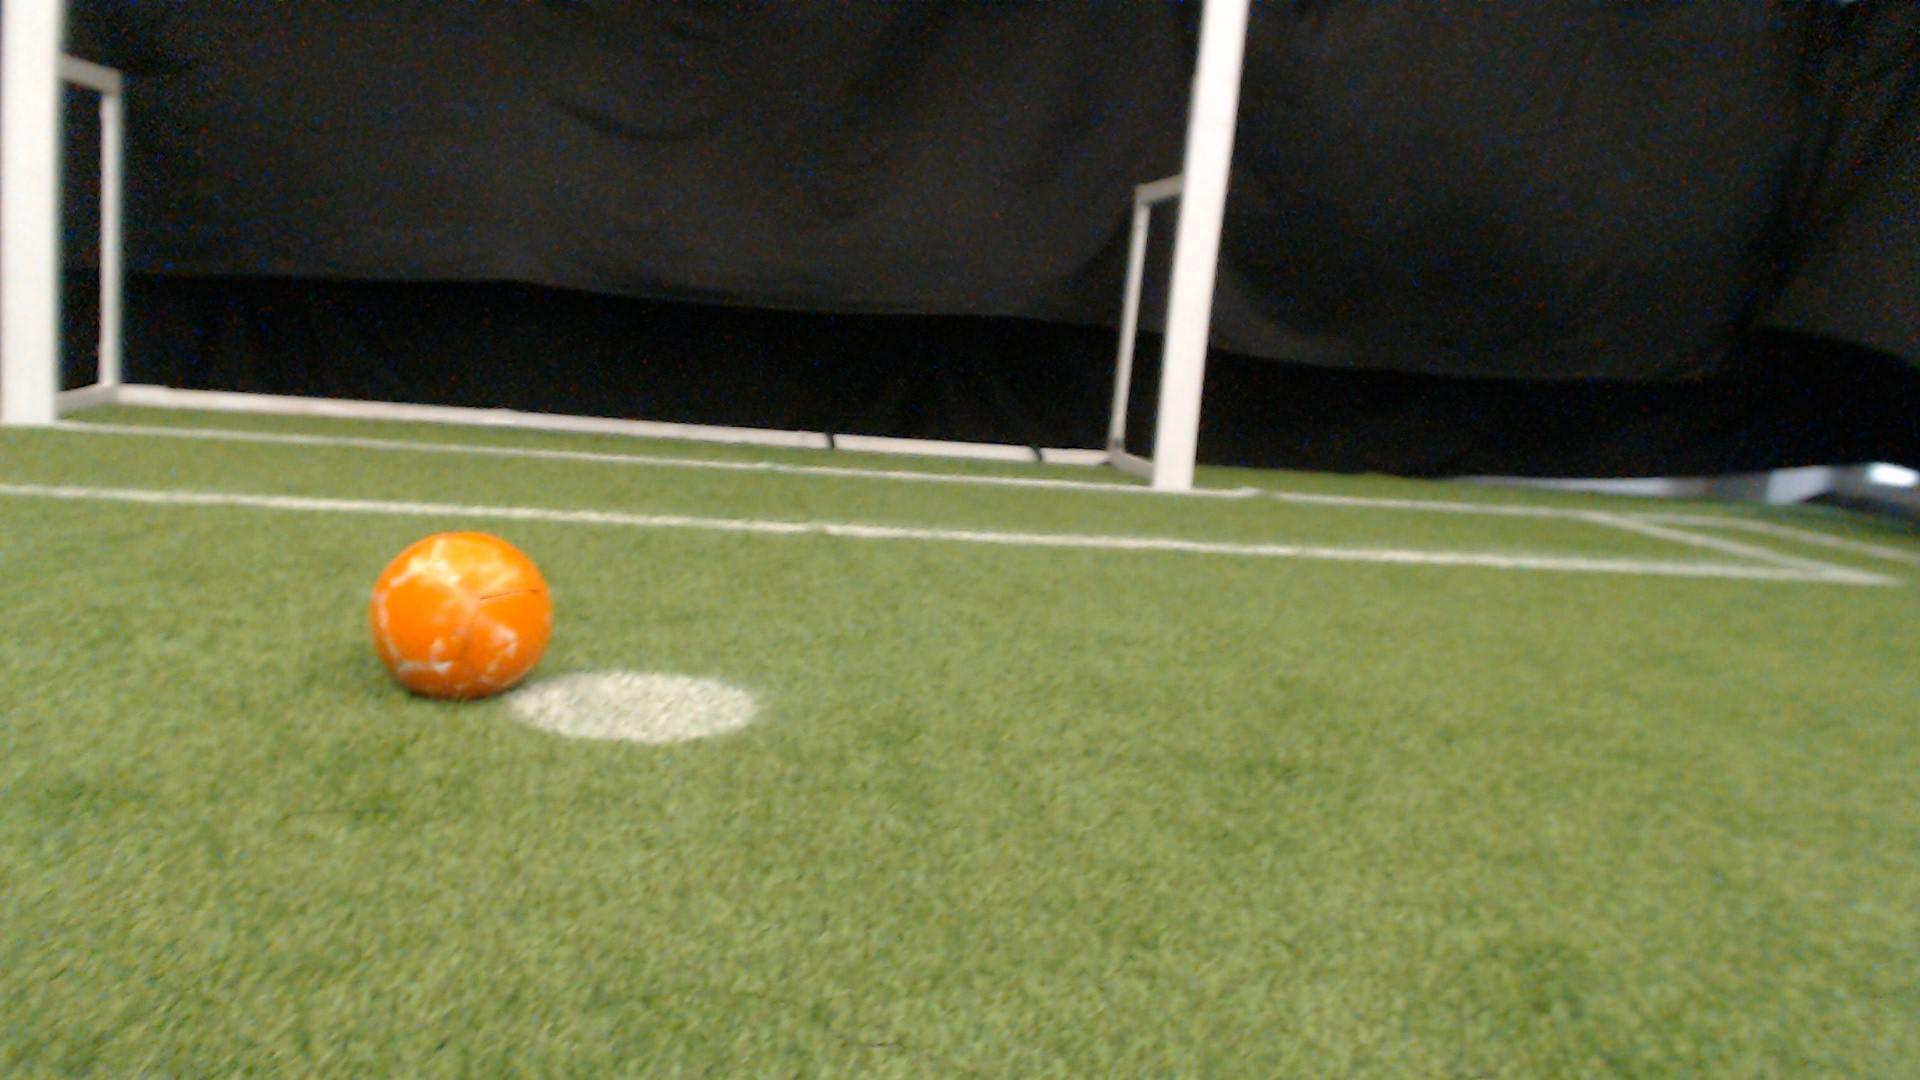bola: (348, 518, 576, 711)
